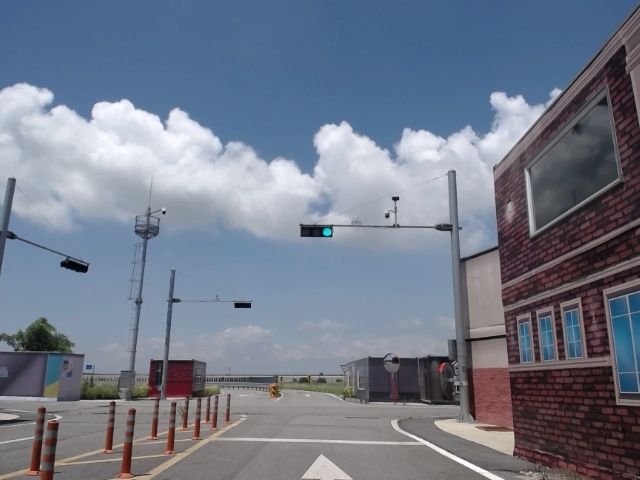green_3: (300, 227, 333, 237)
